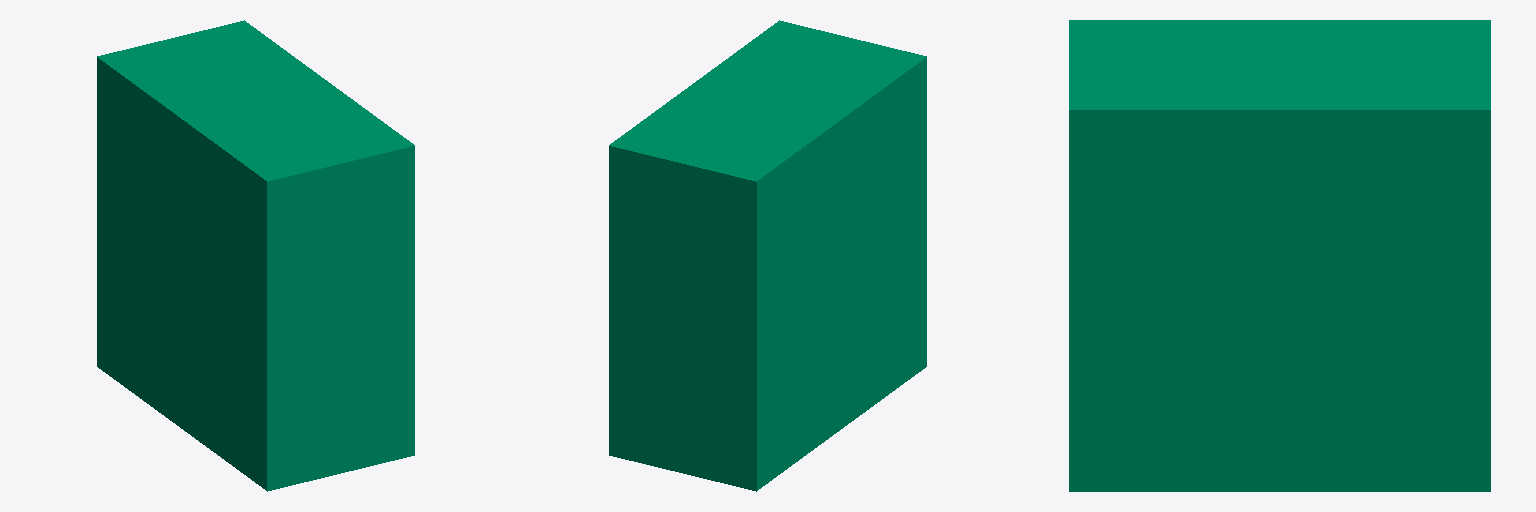
URDF robot description (test_robot):
<robot name="test_robot">
  <link name="base_footprint"/>
  <link name="base_link"/> <!-- 基準となる空のリンク -->
  
  <link name="body_link"> <!-- リンクの設定 -->
    <visual>
      <geometry>
        <box size="0.1 0.2 0.2"/> <!-- 見た目を長方形に設定 -->
      </geometry>
    </visual>
  </link>
  
  <link name="laser">
    <visual>
      <geometry>
        <cylinder radius="0.05" length="0.1"/> <!-- 見た目を円柱に設定 -->
      </geometry>
    </visual>
  </link>
  
  <joint name="bodytolaser" type="fixed">
    <parent link="body_link"/>
    <child link="laser"/>
    <origin rpy="0 0 3.14159"/> <!-- z軸周りに180度回転 -->
  </joint>
  
  <joint name="body_joint" type="fixed"> <!-- ジョイントの設定 -->
    <parent link="base_link"/> <!-- ジョイントの親を指定 -->
    <child link="body_link"/> <!-- ジョイントの子を指定 -->
  </joint>
  
  <joint name="footlinkjoint" type="fixed">
    <parent link="base_footprint"/>
    <child link="base_link"/>
  </joint>
</robot>

--- Facts derived from the render (not from the file) ---
3 views of the same robot in one strip: view 1: azimuth 30°, elevation 25°; view 2: azimuth 150°, elevation 25°; view 3: azimuth 270°, elevation 25° (orthographic).
Model test_robot with 4 links and 3 joints (3 fixed), rooted at base_footprint, posed every joint at zero.
Visible links, largest first — view 1: body_link; view 2: body_link; view 3: body_link.
Link boxes in pixels (x1,y1,x2,y2): body_link: [97, 20, 414, 491]; body_link: [609, 20, 926, 491]; body_link: [1069, 20, 1490, 491].
Bounding box of the posed robot: 0.1 × 0.2 × 0.2 m (x, y, z).
Geometry: primitives only (box / cylinder / sphere), no mesh files.
